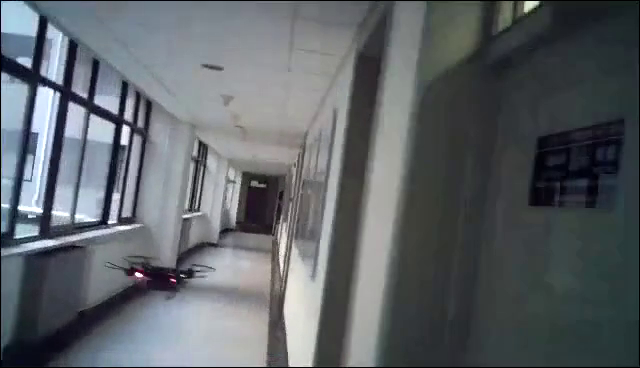drone: (105, 254, 217, 293)
